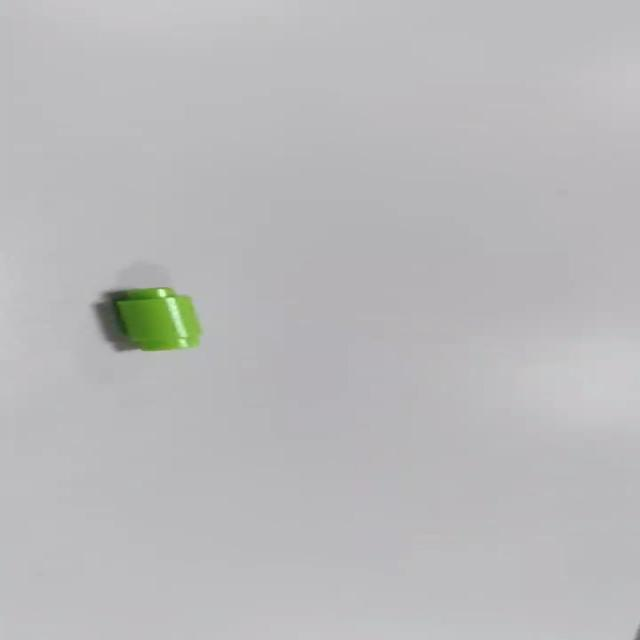S1x1x1: (105, 286, 206, 352)
